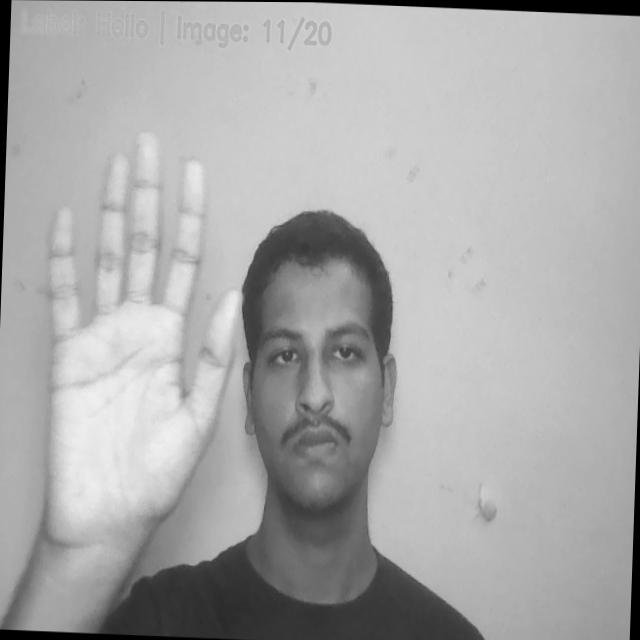Hello: (37, 129, 243, 543)
